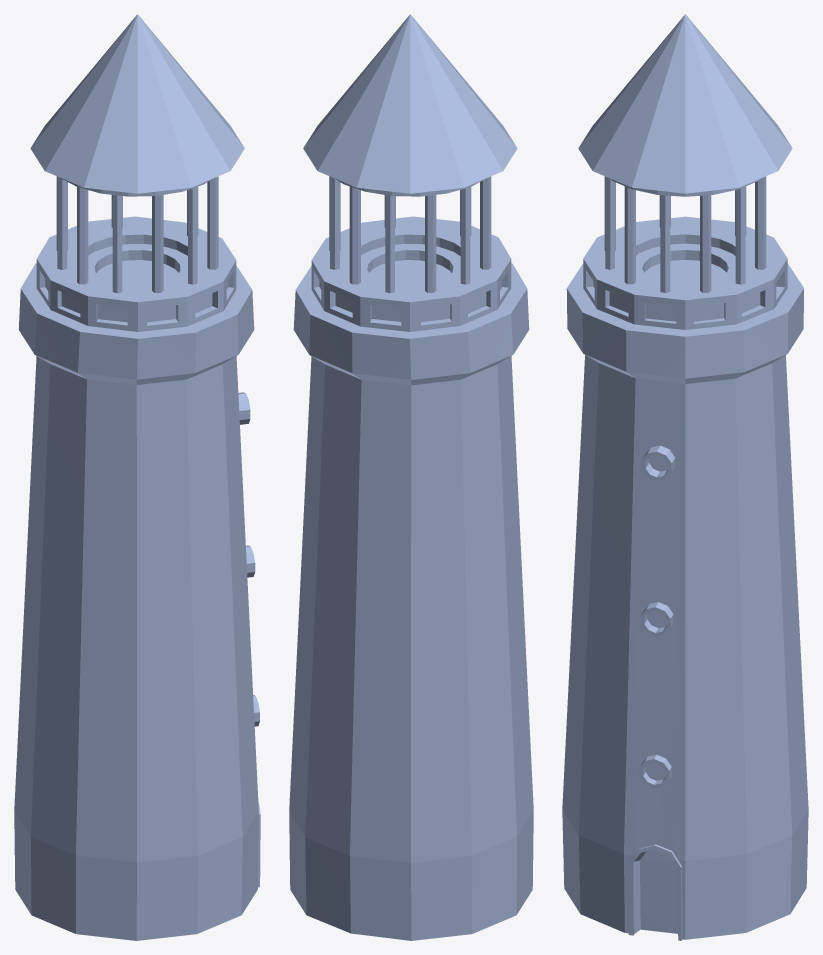
File: Lighthouse.fbx
The picture shows the model from 3 angles, left to right: view 1: azimuth 30°, elevation 25°; view 2: azimuth 150°, elevation 25°; view 3: azimuth 270°, elevation 25°; orthographic projection.
Parts seen in each view (by area): view 1: Tower; view 2: Tower; view 3: Tower.
Part boxes in pixels (left/top/right/bottom): Tower: left=14, top=14, right=260, bottom=940; Tower: left=289, top=14, right=533, bottom=940; Tower: left=562, top=14, right=808, bottom=940.
Size of the model in its own units: 0.0102 by 0.0398 by 0.0102.
